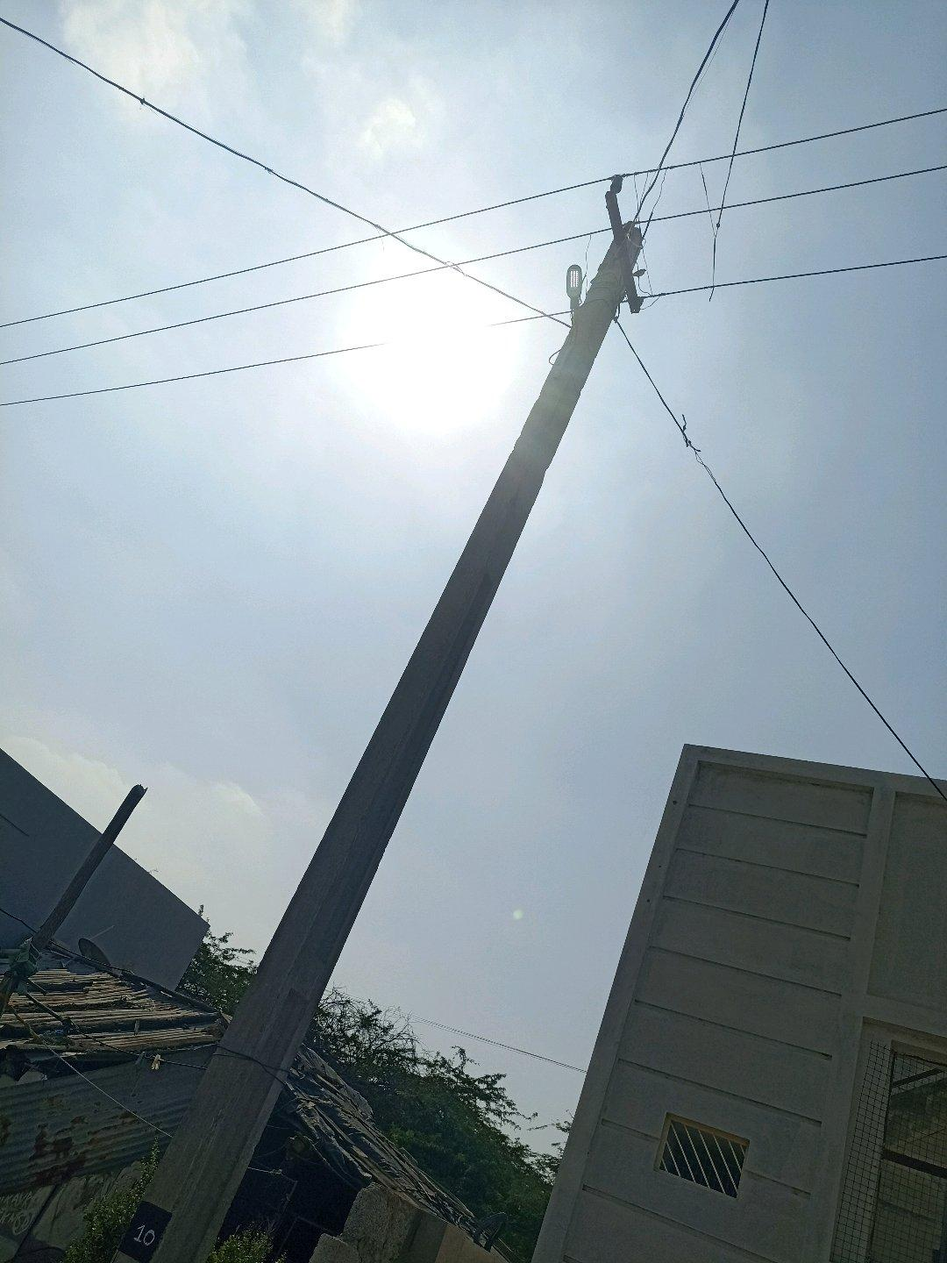{"0" "insulator", "1" "pole", "2" "crossarm", "3" "conductor", "4" "street_: (119, 176, 644, 1262), (626, 341, 664, 403), (711, 195, 728, 221), (616, 325, 627, 342), (710, 276, 716, 295), (728, 150, 737, 162), (713, 226, 716, 233), (662, 403, 665, 408), (730, 168, 730, 172)
